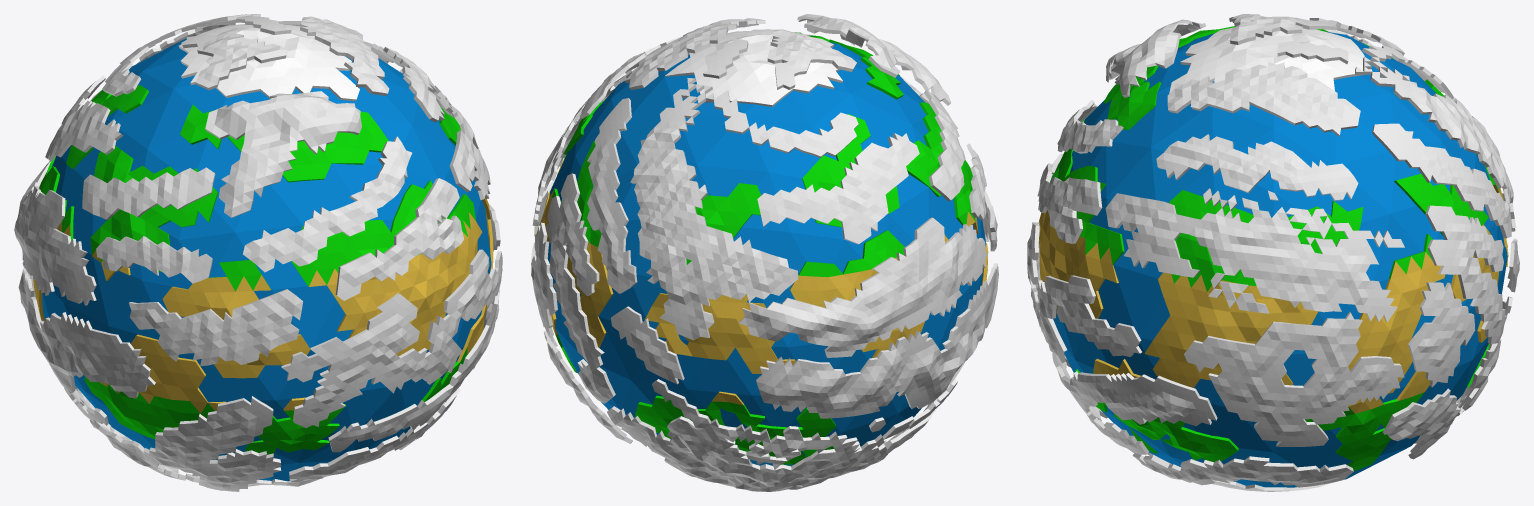
The model's file is PLANET.fbx.
3 renders of one model, left to right at view 1: azimuth 30°, elevation 25°; view 2: azimuth 150°, elevation 25°; view 3: azimuth 270°, elevation 25°, orthographic. The views are drawn at different scales.
Parts seen in each view (by area): view 1: Icosphere; view 2: Icosphere; view 3: Icosphere.
Part boxes in pixels (x1,y1,x2,y2): Icosphere: [14, 14, 502, 491]; Icosphere: [531, 14, 998, 491]; Icosphere: [1027, 14, 1519, 491].
Size of the model in its own units: 788 by 783 by 792.
